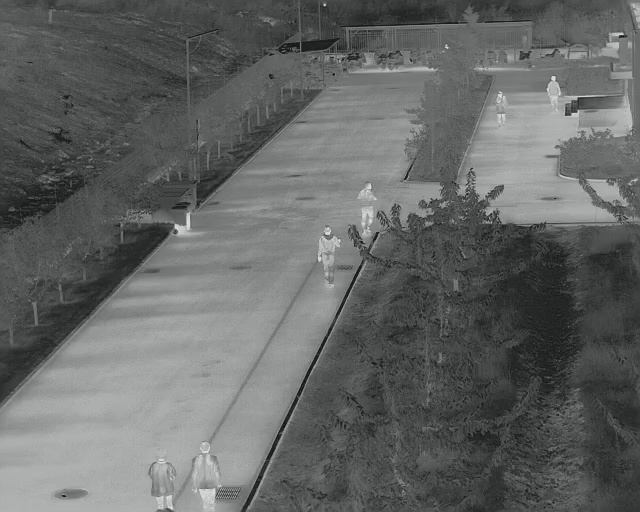person: (195, 441, 221, 511), (149, 448, 176, 512), (319, 223, 339, 288), (361, 183, 376, 237), (547, 76, 561, 113), (494, 92, 505, 123)
